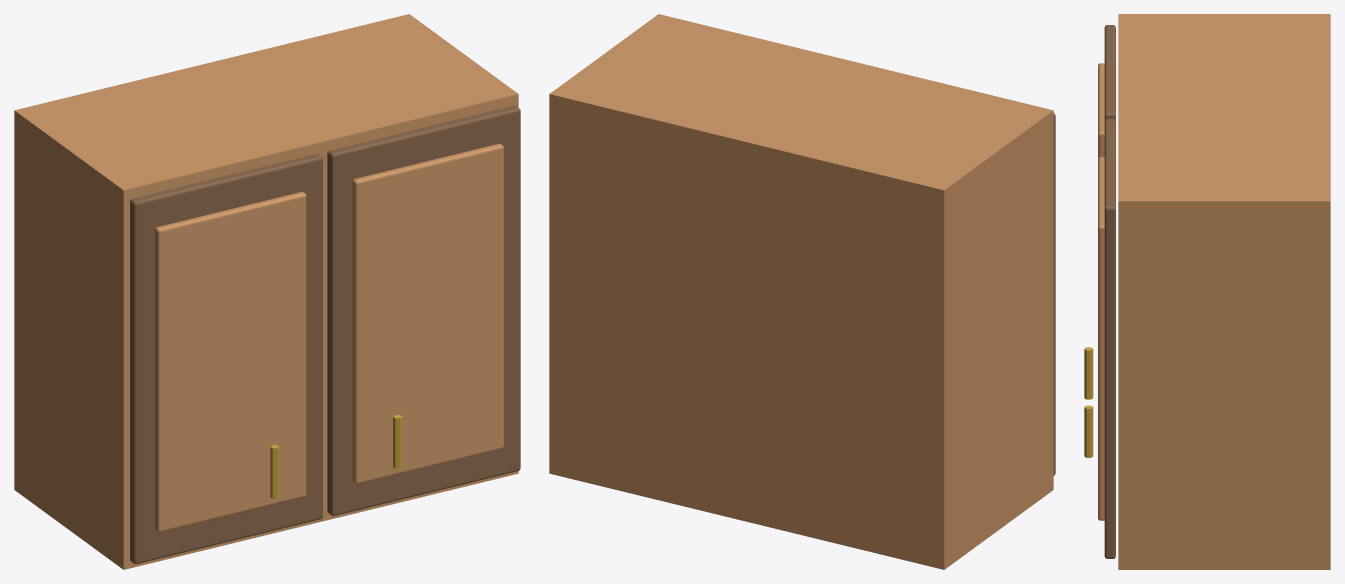
The model's file is wall-cabinet.glb.
3 views of the same model, side by side, from view 1: azimuth 30°, elevation 25°; view 2: azimuth 150°, elevation 25°; view 3: azimuth 270°, elevation 25° (orthographic). The views are drawn at different scales.
Visible parts, largest first — view 1: wall-cabinet; view 2: wall-cabinet; view 3: wall-cabinet.
Boxes of the visible parts, left/top/right/bottom form: wall-cabinet: left=14, top=14, right=520, bottom=569; wall-cabinet: left=549, top=14, right=1055, bottom=569; wall-cabinet: left=1084, top=14, right=1330, bottom=569.
Size of the model in its own units: 0.98 by 0.9 by 0.545.
